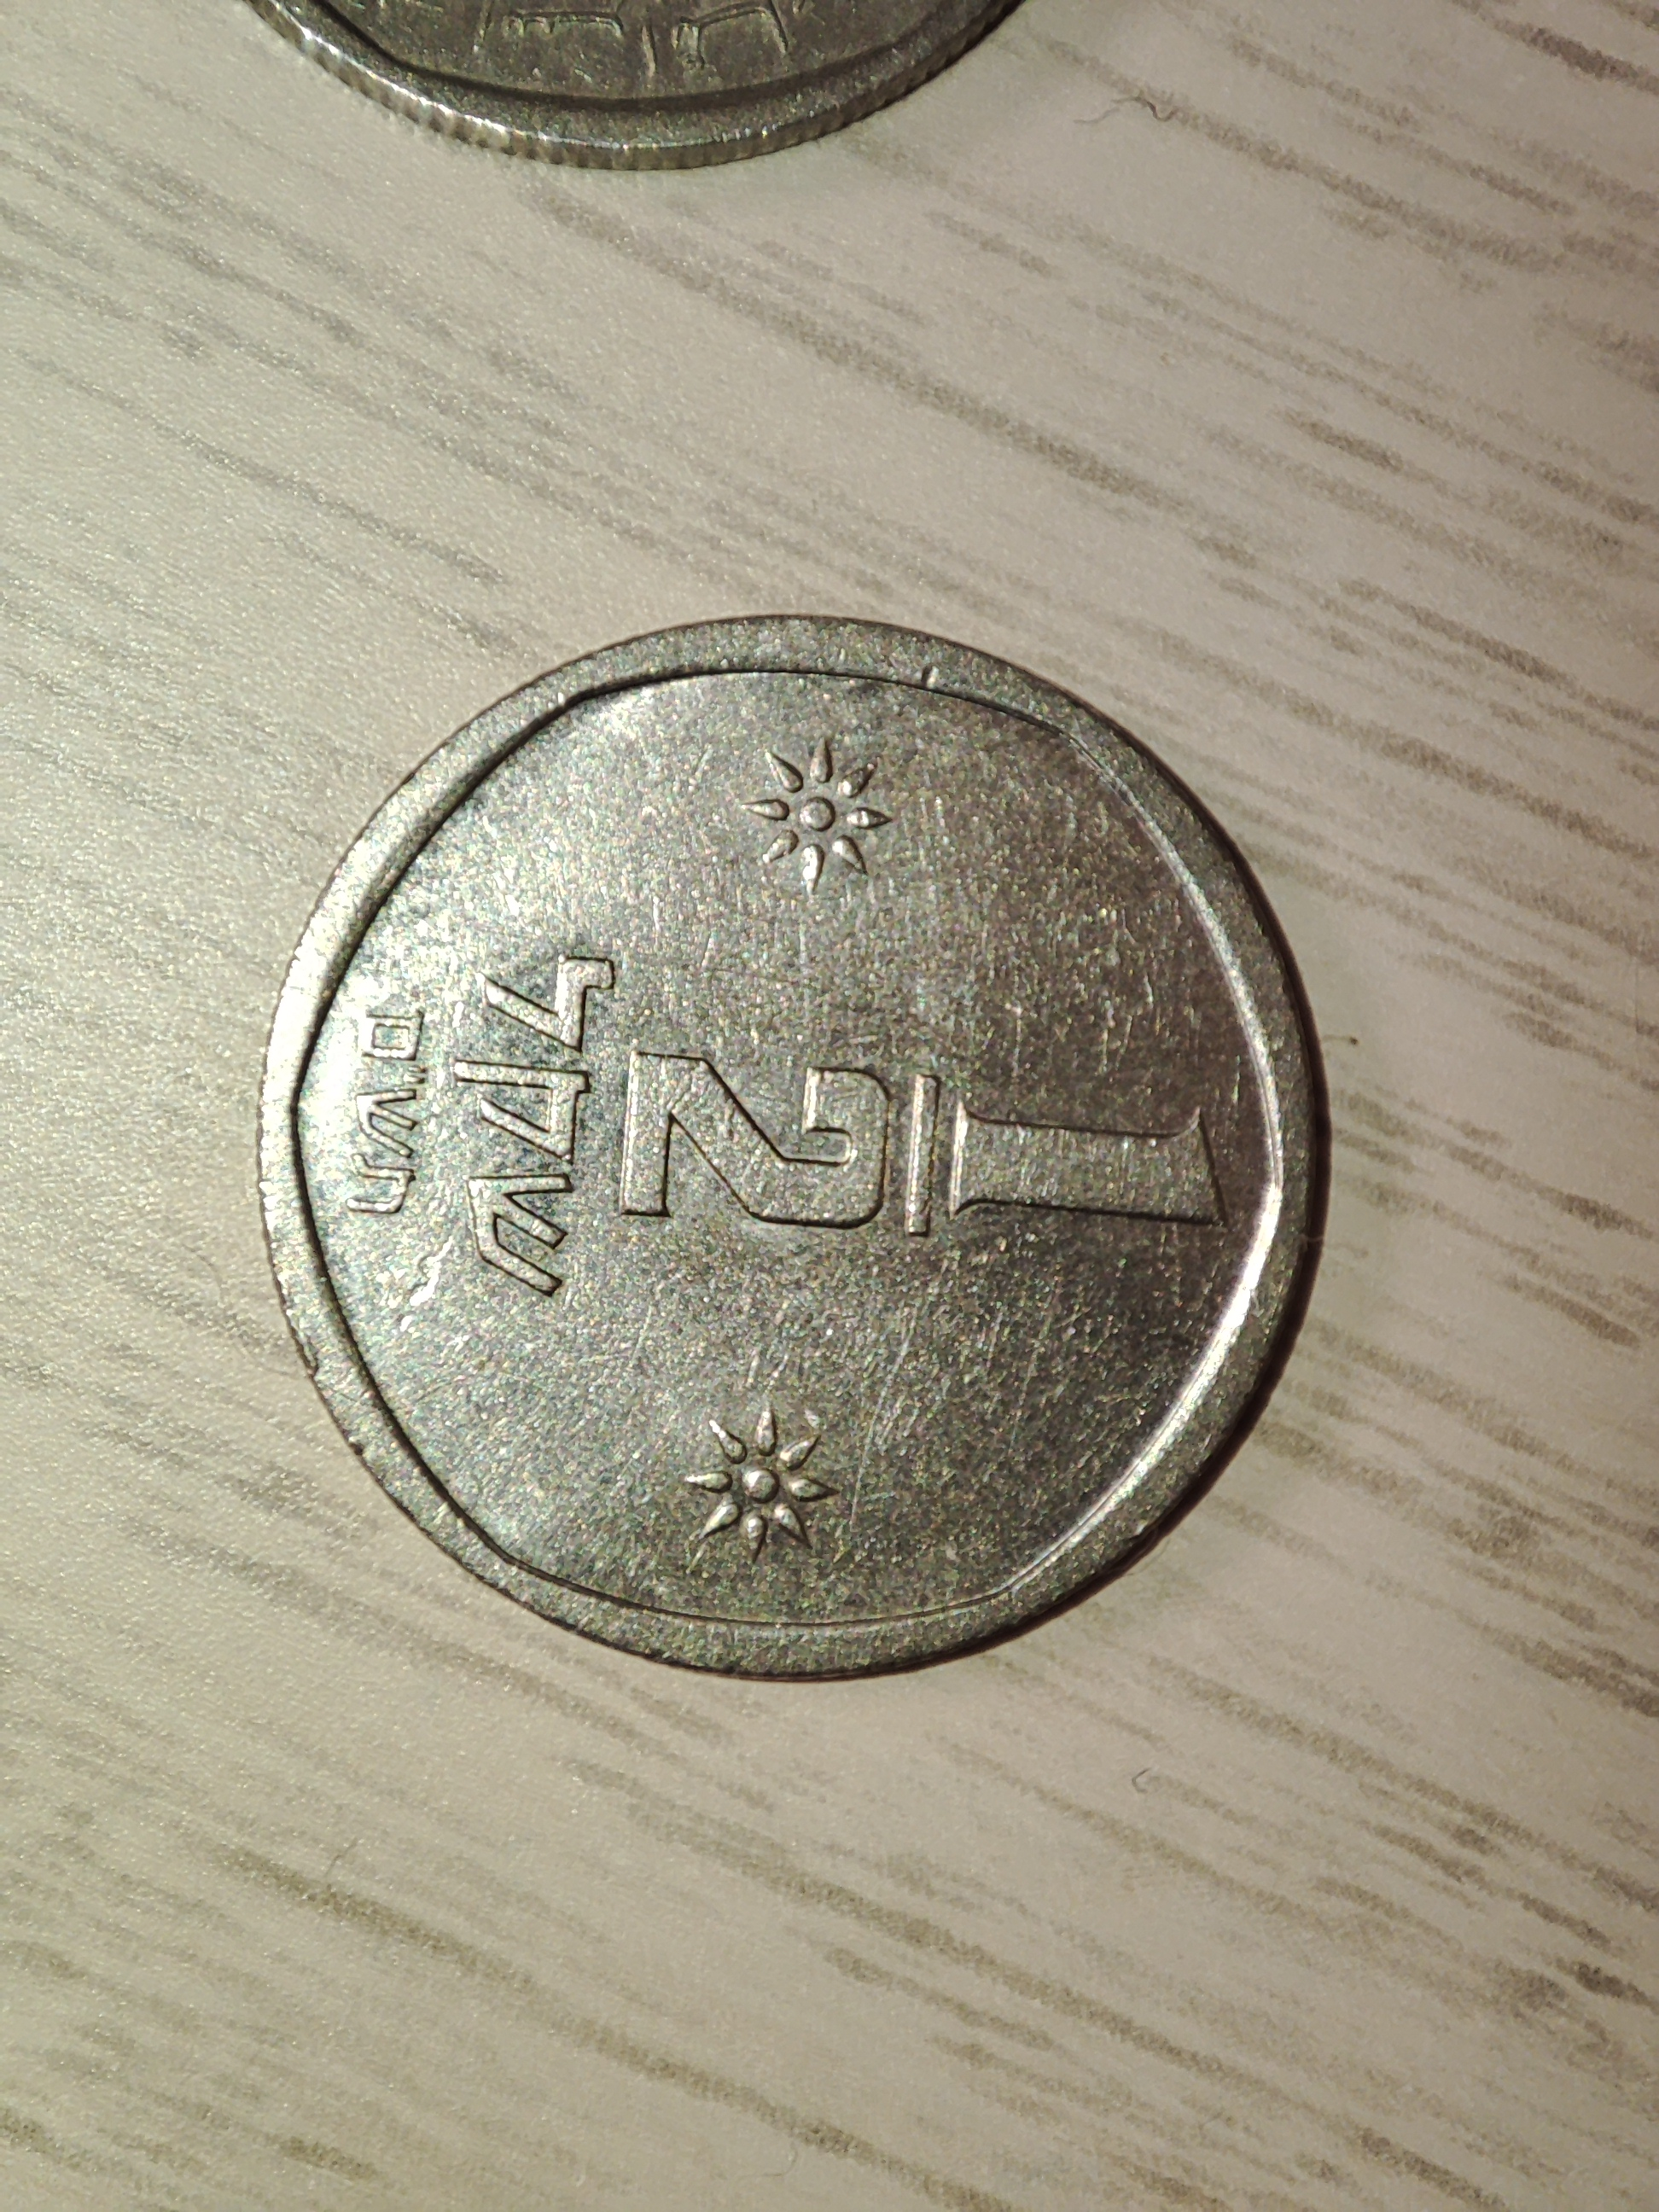1/2 old sheqel: (249, 601, 1345, 1686)
